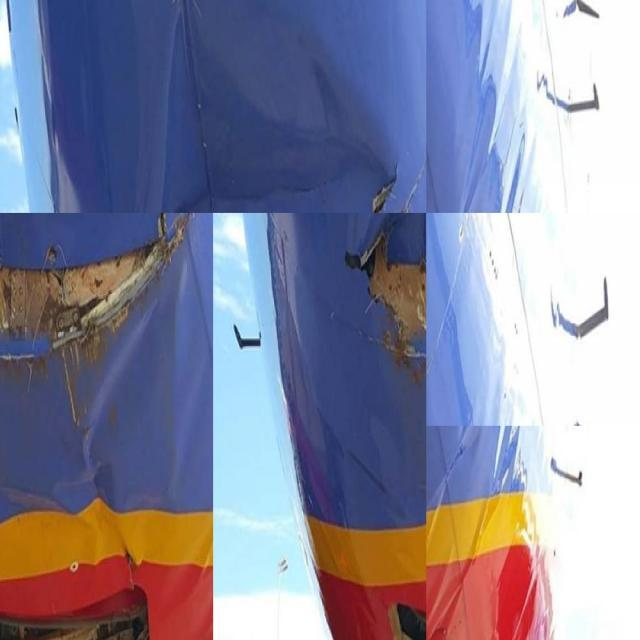crack: (364, 155, 409, 222)
